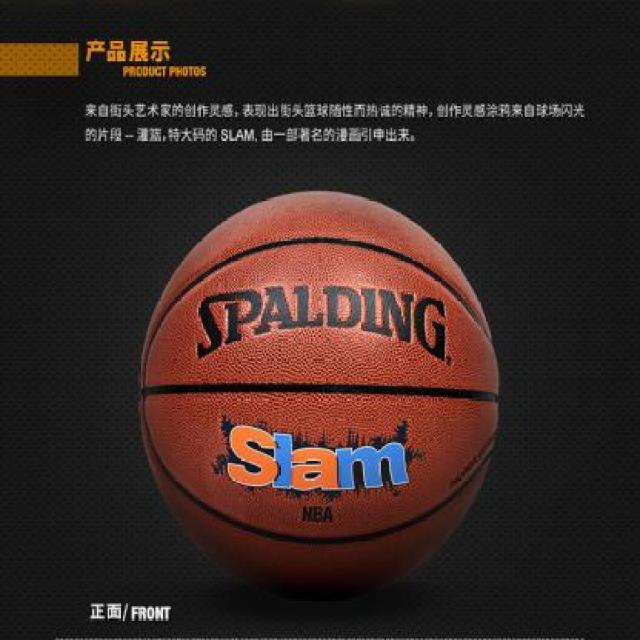basketball: (140, 191, 502, 604)
